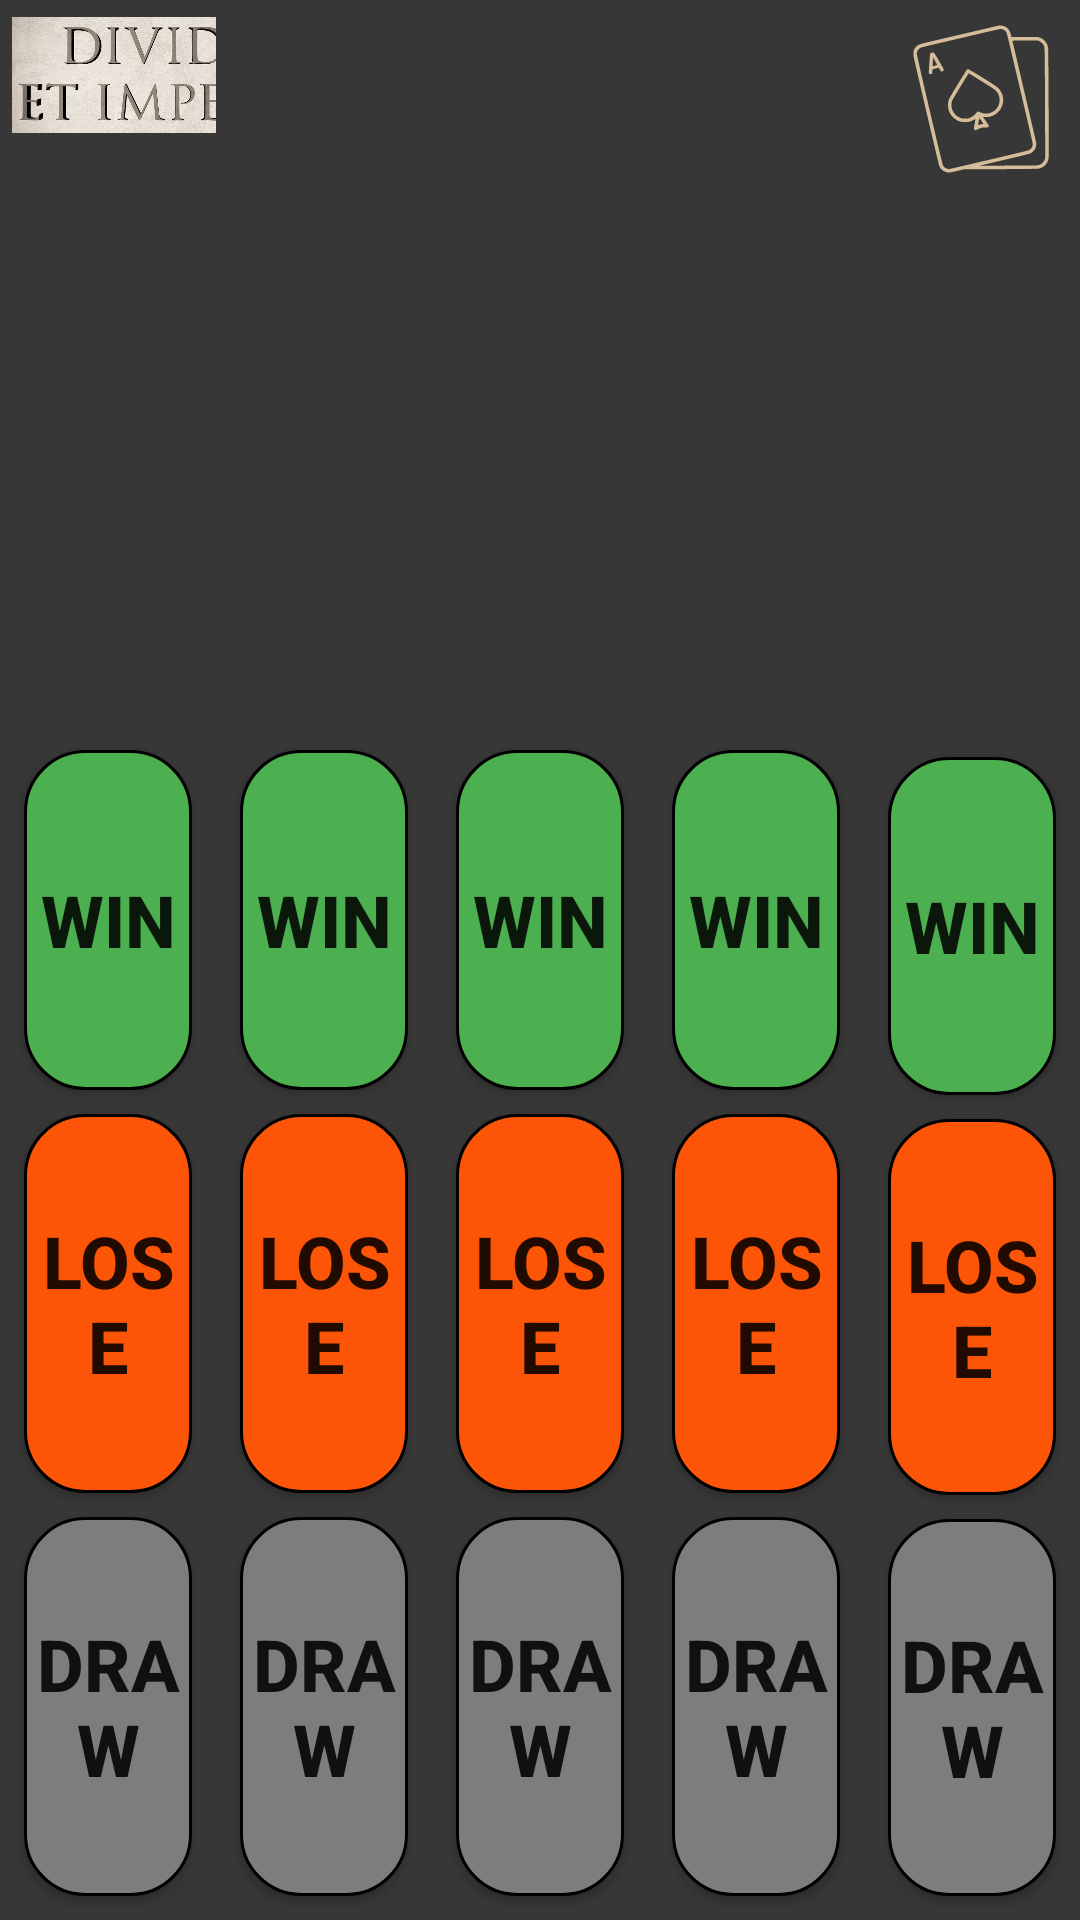

Where to tap for icons on this 1080 × 1920 app screen, as point (x, y):
cards: point (981, 99)
